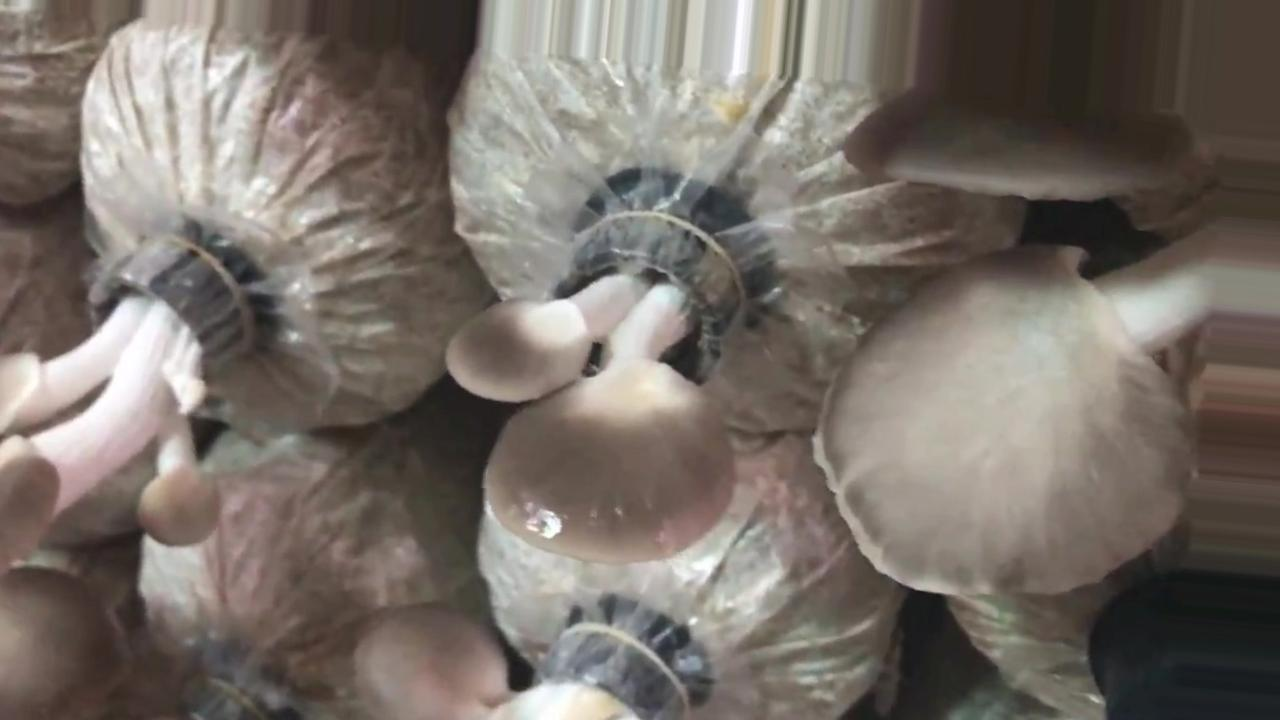nam: (811, 78, 1280, 578), (442, 185, 748, 570), (1, 217, 277, 576), (352, 600, 717, 720)
